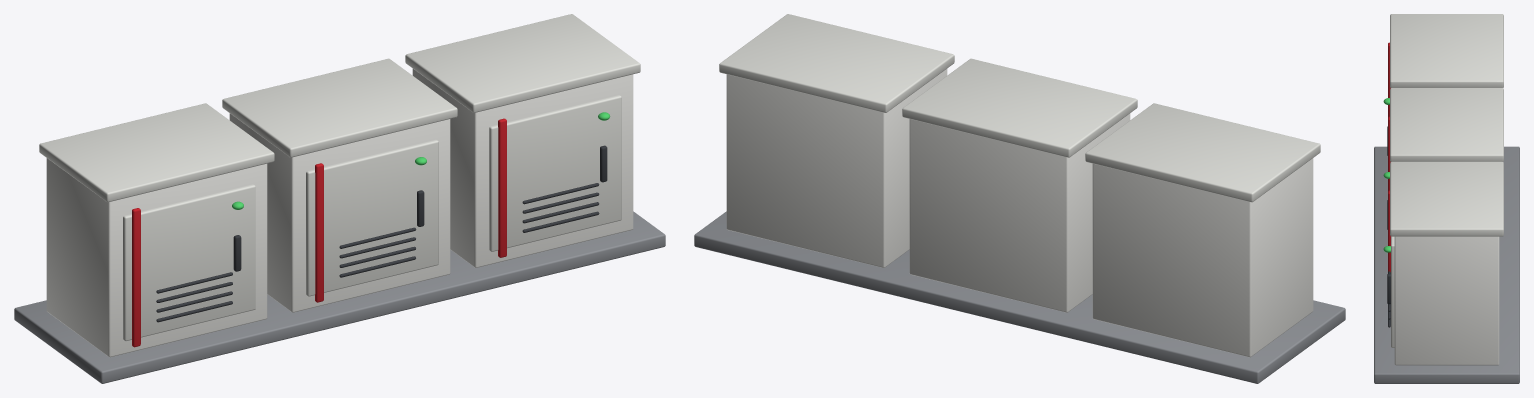
Rendered from megapack.glb.
3 renders of one model, left to right at view 1: azimuth 30°, elevation 25°; view 2: azimuth 150°, elevation 25°; view 3: azimuth 270°, elevation 25°, orthographic. The views are drawn at different scales.
Visible parts, largest first — view 1: megapack; view 2: megapack; view 3: megapack.
Boxes of the visible parts, left/top/right/bottom form: megapack: left=14, top=14, right=665, bottom=383; megapack: left=694, top=14, right=1345, bottom=383; megapack: left=1374, top=14, right=1519, bottom=383.
Bounding box in the file's own units: 3.7 × 1.13 × 1.
